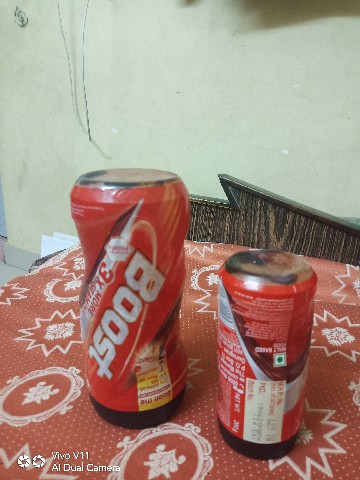boost big: (68, 153, 194, 434)
boost small: (216, 239, 323, 463)
